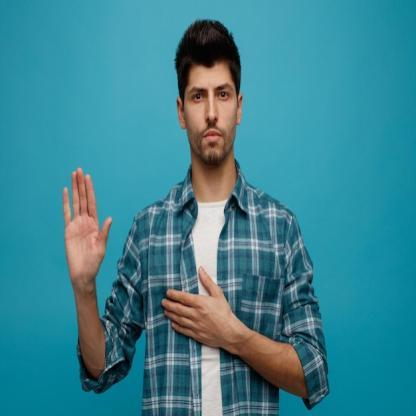stop: (61, 166, 114, 288)
